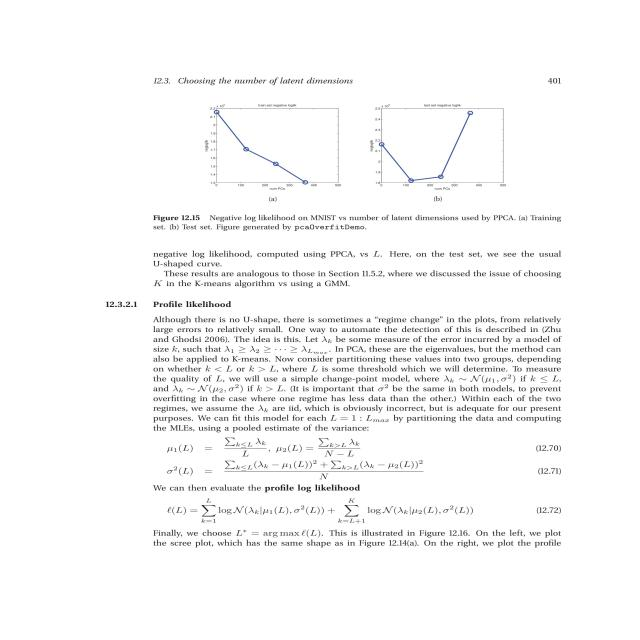diagram: (123, 71, 623, 233)
